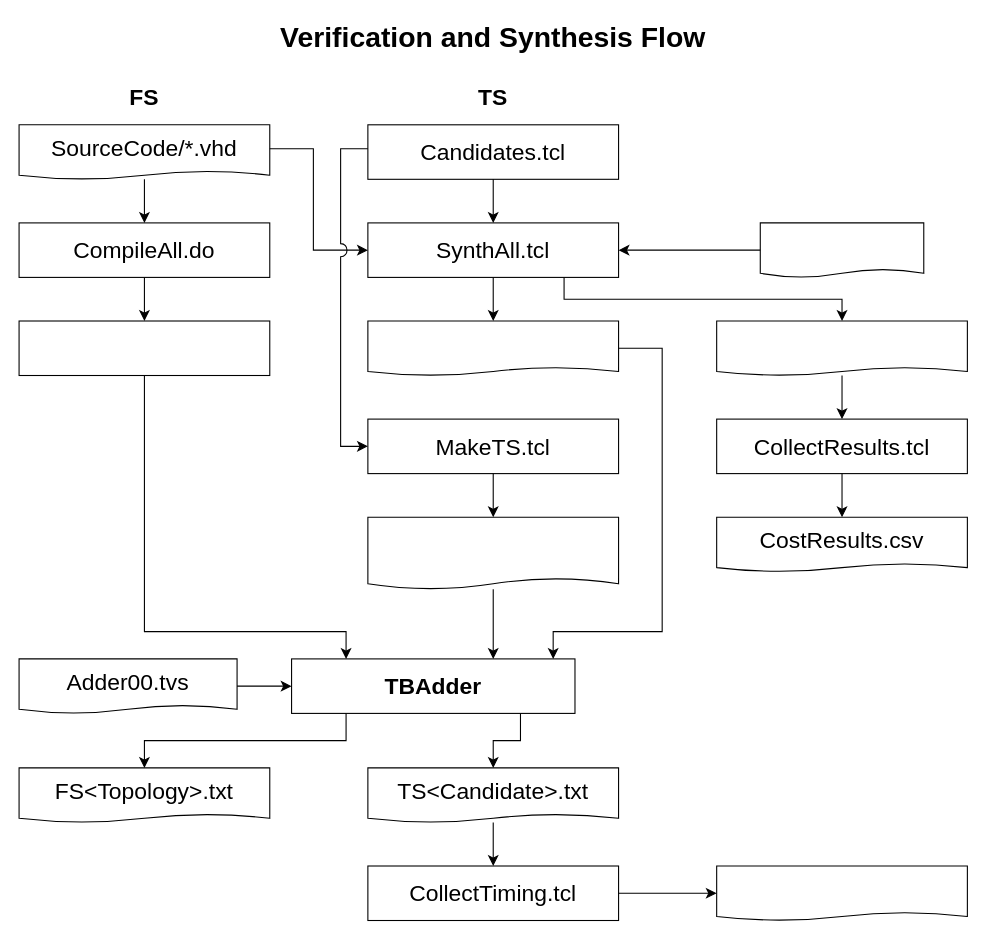
Image size: 986x940. Some labels were removed from this diagram. Each missing label, with the box of its shape:
.vho / .sdo: (367, 320, 619, 376)
Adder.sdc: (759, 222, 924, 277)
FS<Topology> config: (18, 320, 270, 376)
Quartus reports: (716, 320, 967, 376)
TimingResults.csv: (716, 865, 967, 921)
TS<Candidate>.do TS<Candidate> config: (367, 516, 619, 589)
